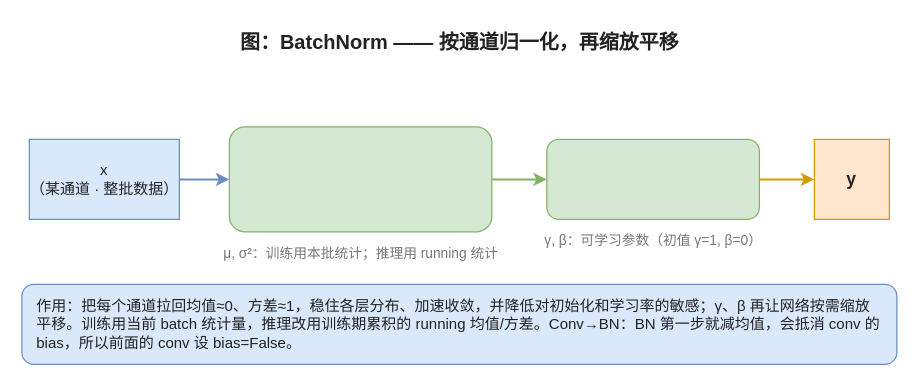
The diagram is 919 pixels wide and 386 high, and some of its shapes have lost their labels. Here are the shapes that lost their labels. From the top down, the centre of each, then its label:
At pixel 360 179: "① 归一化 x̂ = (x − μ) / √(σ² + ε)".
At pixel 652 178: "② 缩放平移 y = γ · x̂ + β".
